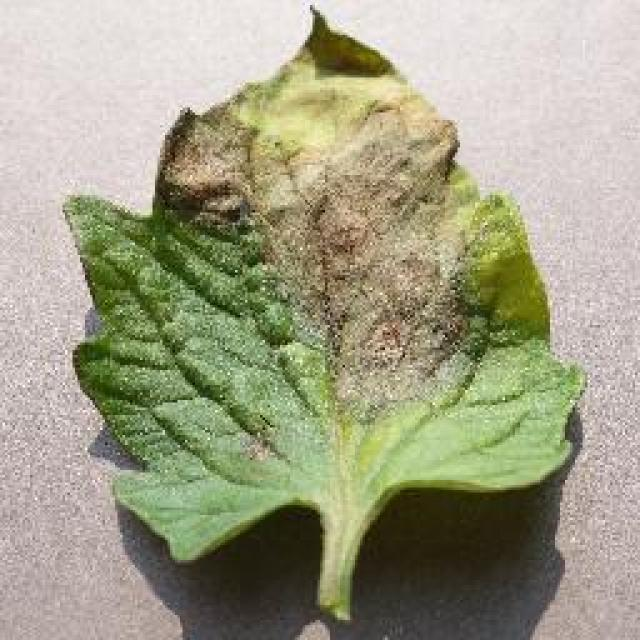Tomato late blight leaf: (65, 9, 592, 564)
